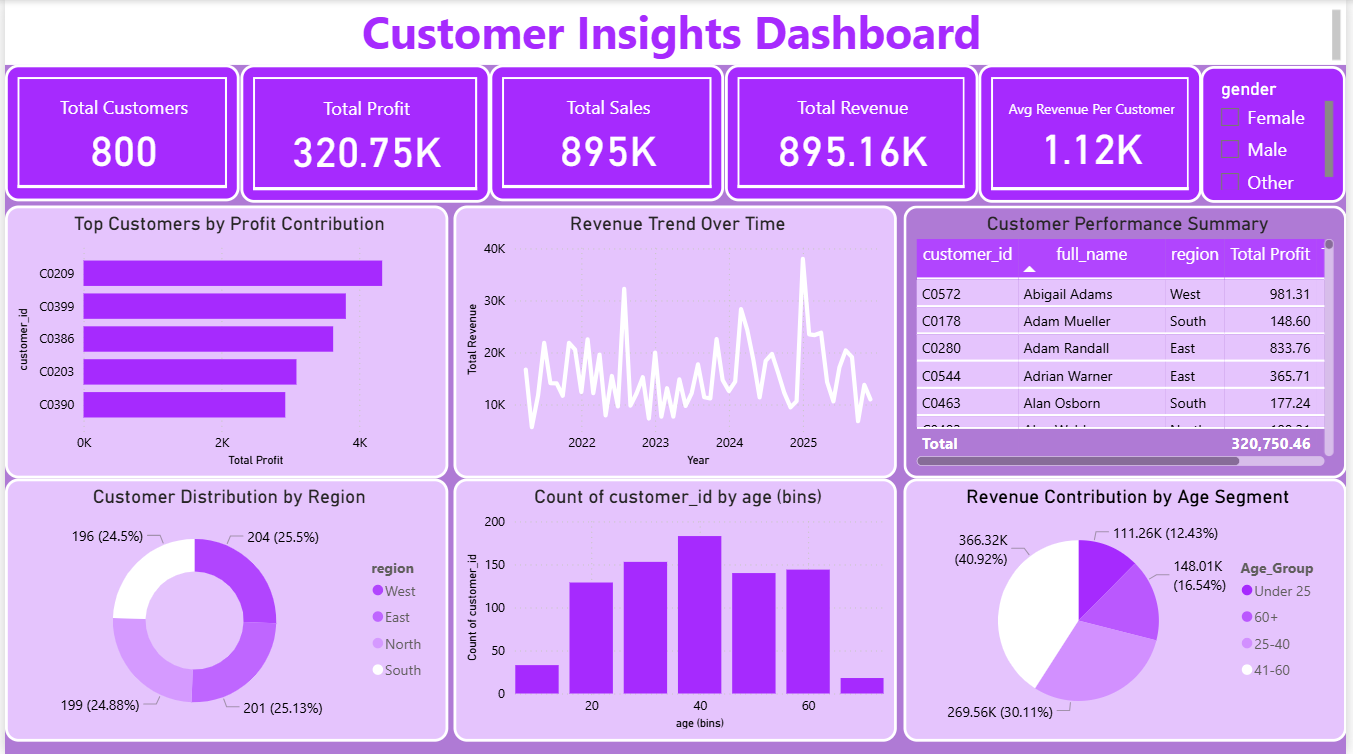

Layout of this report page (visuals, bound fields, positions):
{"tool":"powerbi","page":{"name":"Customer Insights_Dashboard","canvas":[1280,720],"ordinal":1},"visuals":[{"type":"textbox","box":[0,0,1280.4,62],"z":0},{"type":"donutChart","title":"Customer Distribution by Region","fields":{"Category":["customers_clean.region"],"Y":["CountNonNull(customers_clean.customer_id)"]},"box":[0,456.5,423.1,251.3],"z":1000},{"type":"columnChart","fields":{"Category":["customers_clean.age (bins)"],"Y":["Count(customers_clean.customer_id)"]},"box":[427.9,456.5,423.1,251.3],"z":2000},{"type":"pieChart","title":"Revenue Contribution by Age Segment","fields":{"Category":["customers_clean.Age_Group"],"Y":["customers_clean.Revenue"]},"box":[857.3,456.5,423.1,251.3],"z":3000},{"type":"barChart","title":"Top Customers by Profit Contribution","fields":{"Category":["customers_clean.customer_id"],"Y":["customers_clean.Total Profit"]},"box":[0,195.6,423.1,260.9],"z":4000},{"type":"cardVisual","fields":{"Data":["customers_clean.Total Profit"]},"box":[224.3,62,238.6,132],"z":5000},{"type":"cardVisual","fields":{"Data":["customers_clean.Total Customers"]},"box":[0,62,224.3,130.4],"z":6000},{"type":"cardVisual","fields":{"Data":["sales_clean.Total Sales"]},"box":[462.9,62,224.3,130.4],"z":7000},{"type":"cardVisual","fields":{"Data":["customers_clean.Total Revenue"]},"box":[687.1,62,241.8,130.4],"z":8000},{"type":"cardVisual","fields":{"Data":["customers_clean.Avg Revenue Per Customer"]},"box":[928.9,62,213.1,132],"z":9000},{"type":"slicer","fields":{"Values":["customers_clean.gender"]},"box":[1142.1,63.6,138.4,130.4],"z":10000},{"type":"tableEx","title":"Customer Performance Summary","fields":{"Values":["customers_clean.customer_id","customers_clean.full_name","customers_clean.region","customers_clean.Total Profit","customers_clean.Total Revenue"]},"box":[857.3,195.6,423.1,260.9],"z":11000},{"type":"lineChart","title":"Revenue Trend Over Time","fields":{"Category":["customers_clean.signup_date.Variation.Date Hierarchy.Year","customers_clean.signup_date.Variation.Date Hierarchy.Month"],"Y":["customers_clean.Total Revenue"]},"box":[427.9,195.6,423.1,260.9],"z":12000}]}

Visuals, with their boxes in screenshot pixels (x1, y1, x2, y2), scaled from the page's 1280x720 canvas onto the 1353x754 screenshot:
textbox: left=0, top=0, right=1352, bottom=65
"Customer Distribution by Region" donutChart: left=0, top=478, right=447, bottom=741
columnChart - customers_clean.age (bins) x Count(customers_clean.customer_id): left=452, top=478, right=900, bottom=741
"Revenue Contribution by Age Segment" pieChart: left=906, top=478, right=1352, bottom=741
"Top Customers by Profit Contribution" barChart: left=0, top=205, right=447, bottom=478
cardVisual - customers_clean.Total Profit: left=237, top=65, right=489, bottom=203
cardVisual - customers_clean.Total Customers: left=0, top=65, right=237, bottom=201
cardVisual - sales_clean.Total Sales: left=489, top=65, right=726, bottom=201
cardVisual - customers_clean.Total Revenue: left=726, top=65, right=982, bottom=201
cardVisual - customers_clean.Avg Revenue Per Customer: left=982, top=65, right=1207, bottom=203
slicer - customers_clean.gender: left=1207, top=67, right=1352, bottom=203
"Customer Performance Summary" tableEx: left=906, top=205, right=1352, bottom=478
"Revenue Trend Over Time" lineChart: left=452, top=205, right=900, bottom=478
